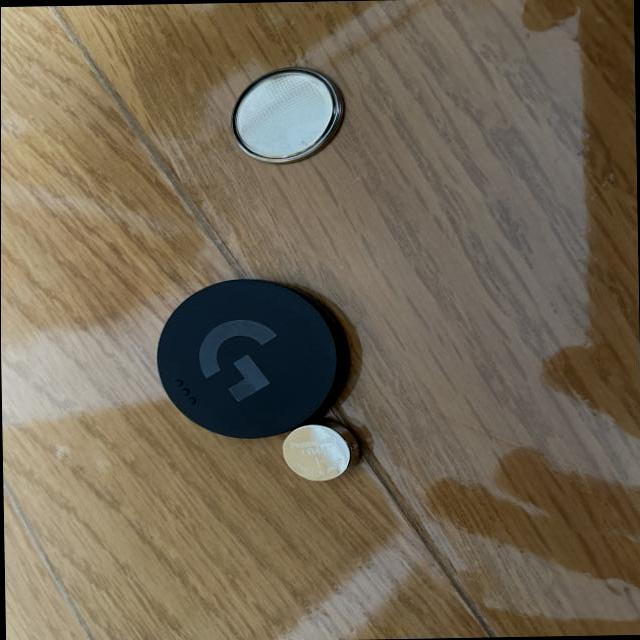COIN: (231, 65, 347, 166), (283, 420, 362, 480)
